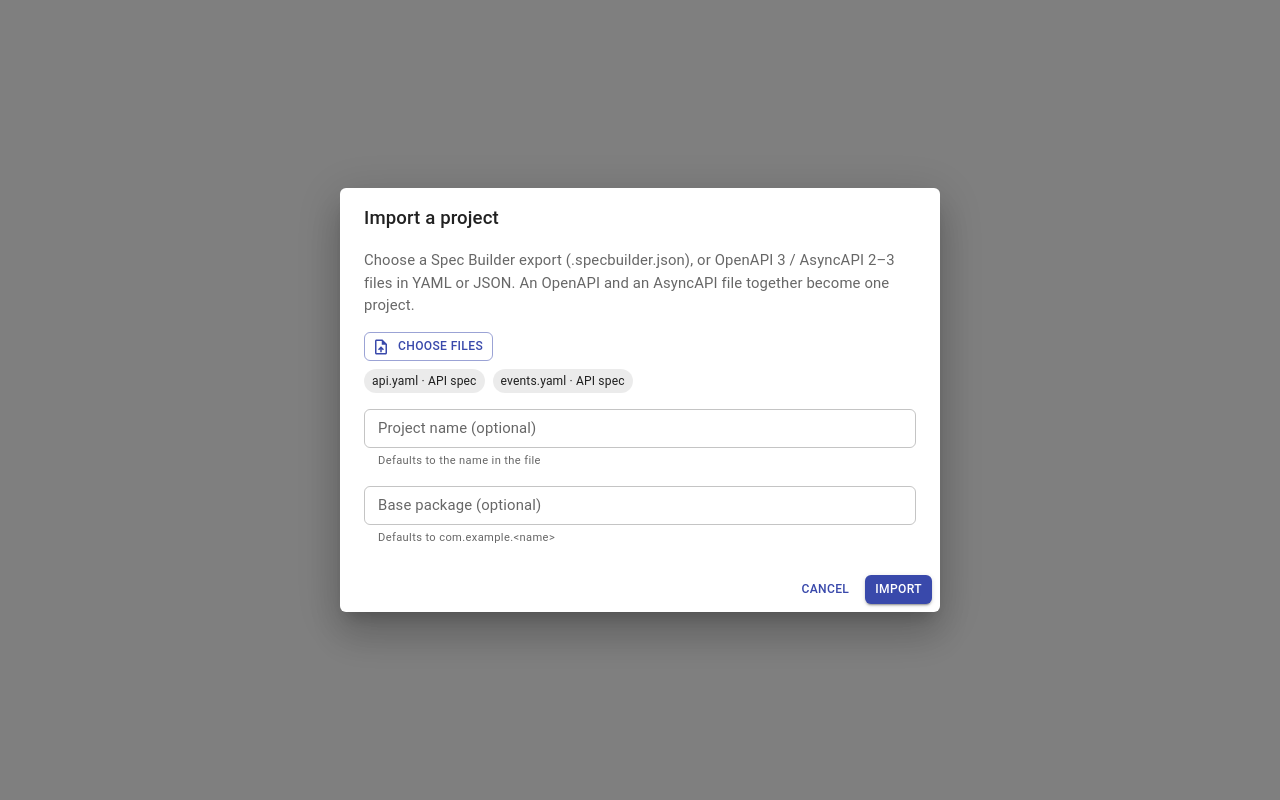
Test: ImportDialog › imports API specs together and shows what could not be imported exactly
This screenshot has width=1280, height=800.
Earlier steps of the test are not shown.
Later steps or results of the test are not shown.
Expected: the text "events.yaml · API spec" is shown, [493,372,633,390]
Type "org.shop" into the field labelled "Base package (optional)" at (640, 505), box [364,486,916,525]
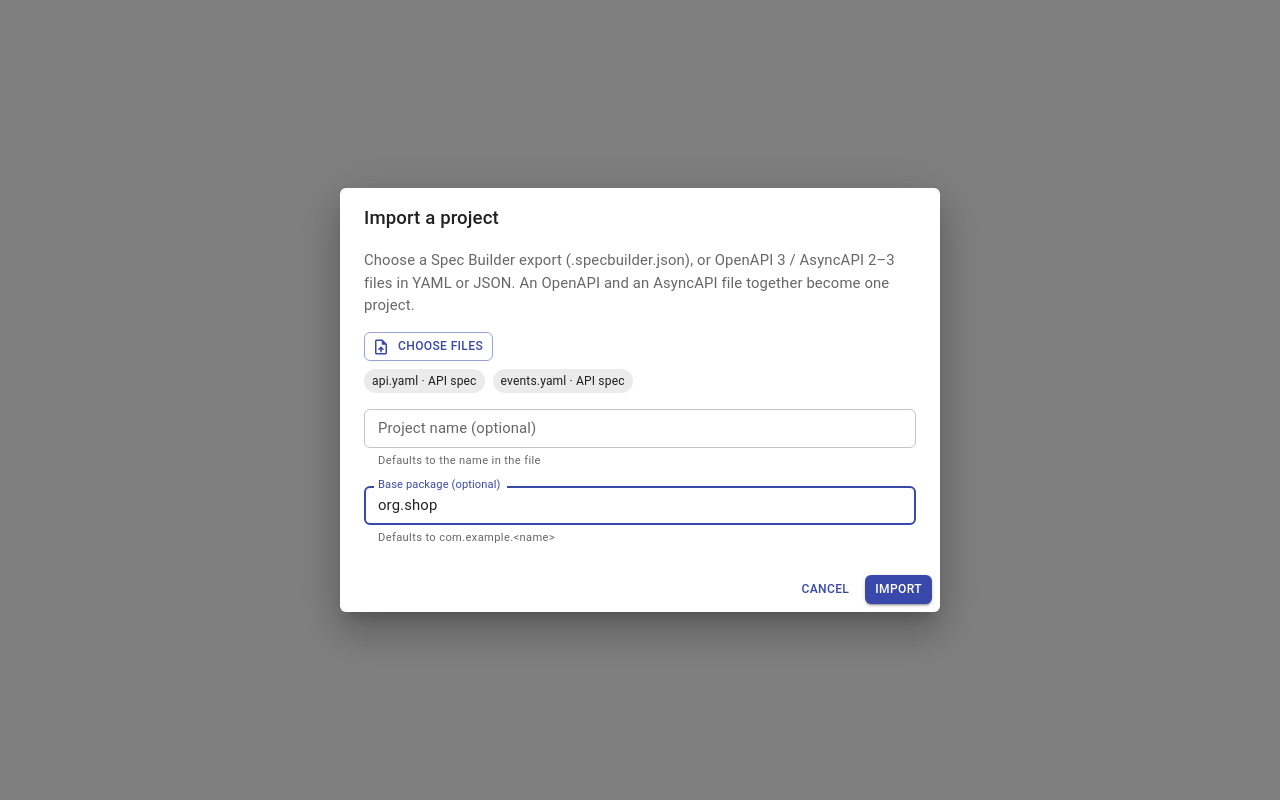
Click the button "Import" at (899, 590), box [865,575,932,604]
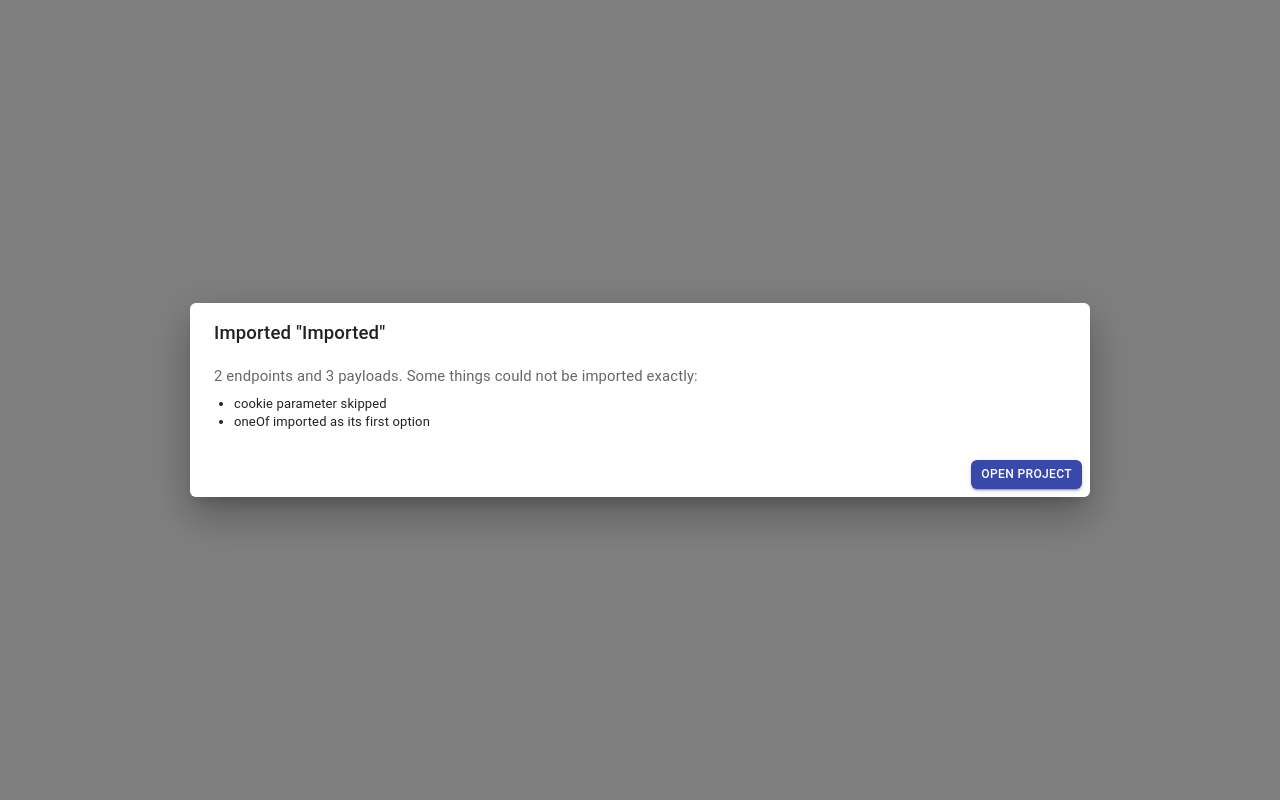
Result: the list items read "cookie parameter skipped", "oneOf imported as its first option", in this order at [234,396,387,411]; [234,414,430,429]
